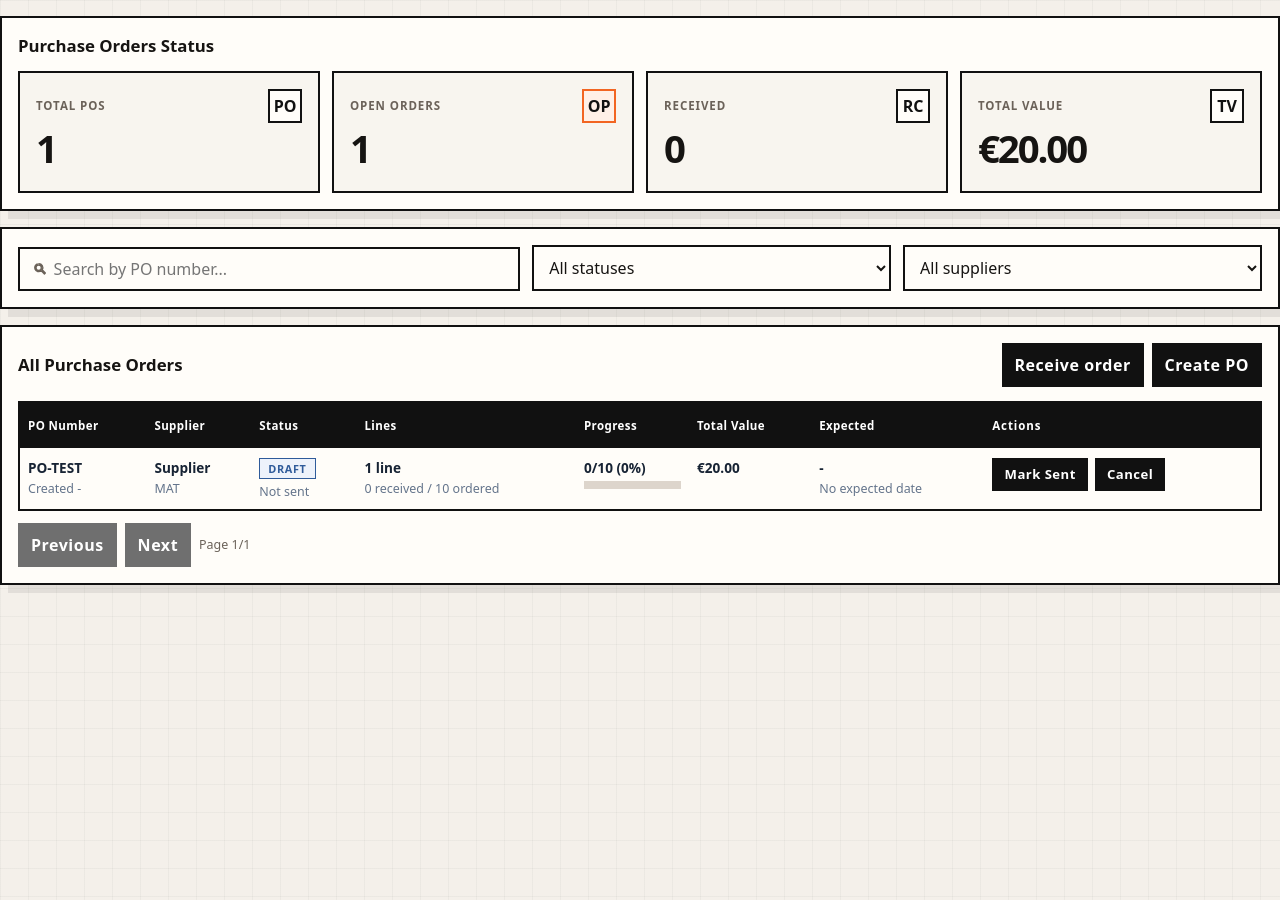
Test: purchase order status feedback › shows a failed send and keeps the action available for retry
This screenshot has width=1280, height=900.
Click the button "Mark Sent" at (1040, 474), box [992,458,1088,491]
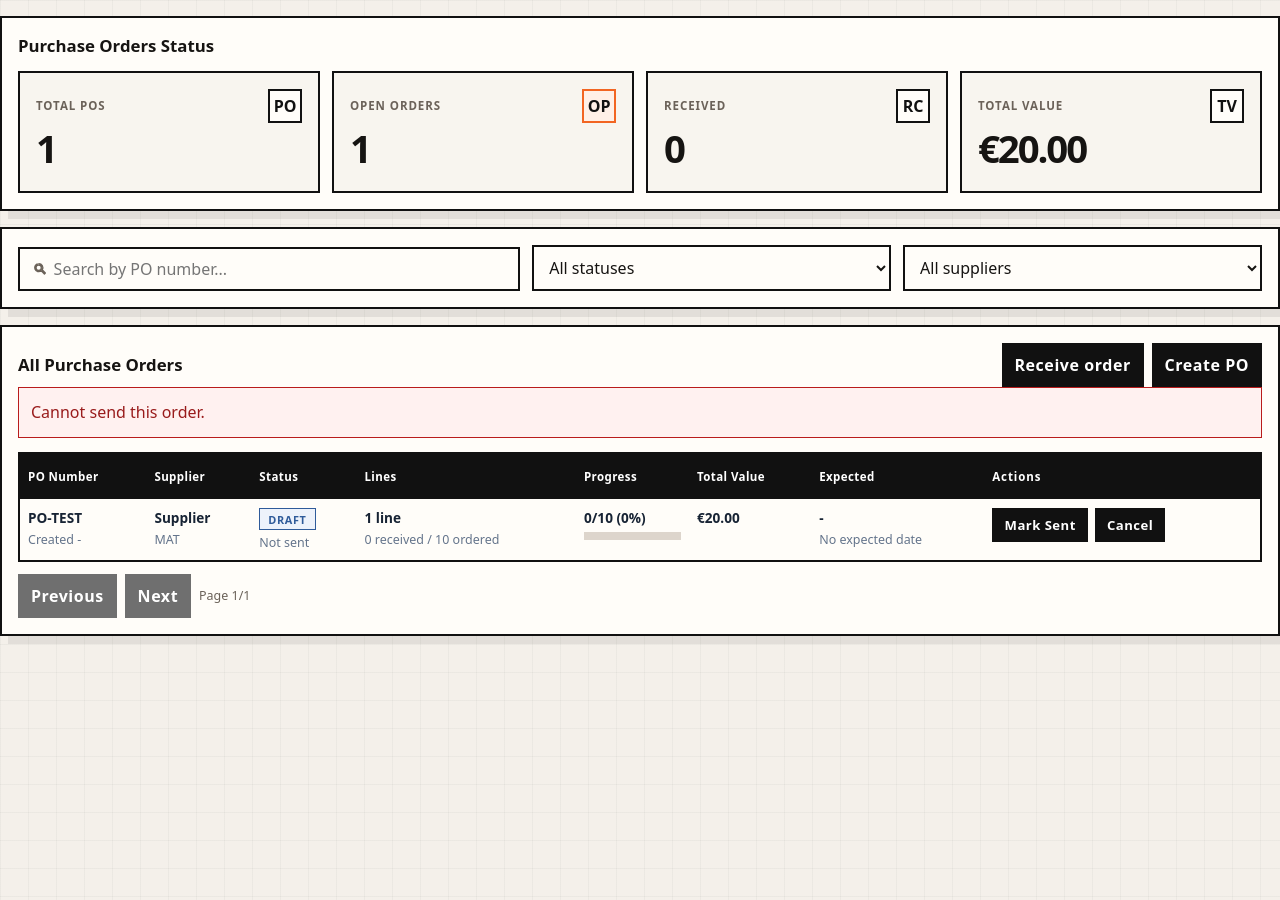
Now the message reads "Cannot send this order.", box [31,401,205,423]
Click the button "Mark Sent" at (1040, 525), box [992,508,1088,542]
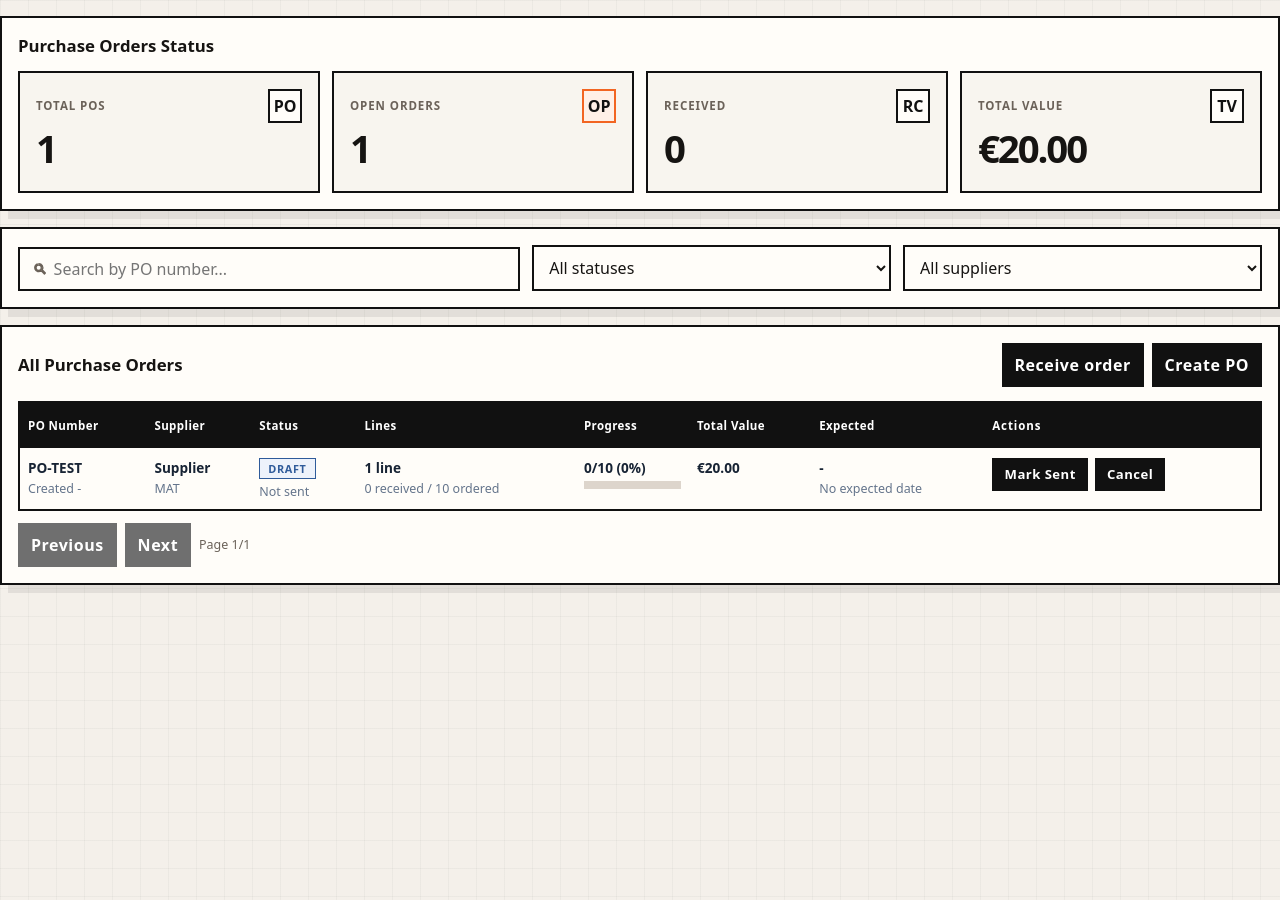
Now the message "Cannot send this order." is gone
